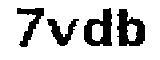7: (8, 6, 45, 51)
b: (116, 7, 155, 54)
d: (81, 6, 113, 50)
v: (45, 16, 78, 50)
